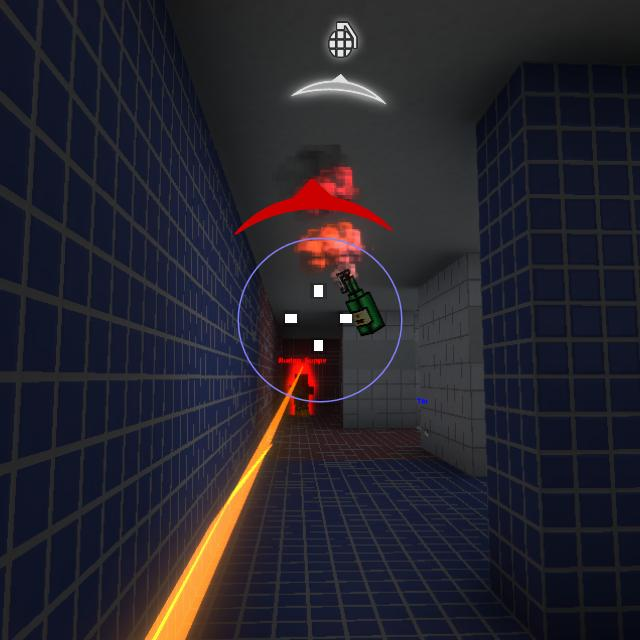Enemy: (289, 374, 314, 417)
